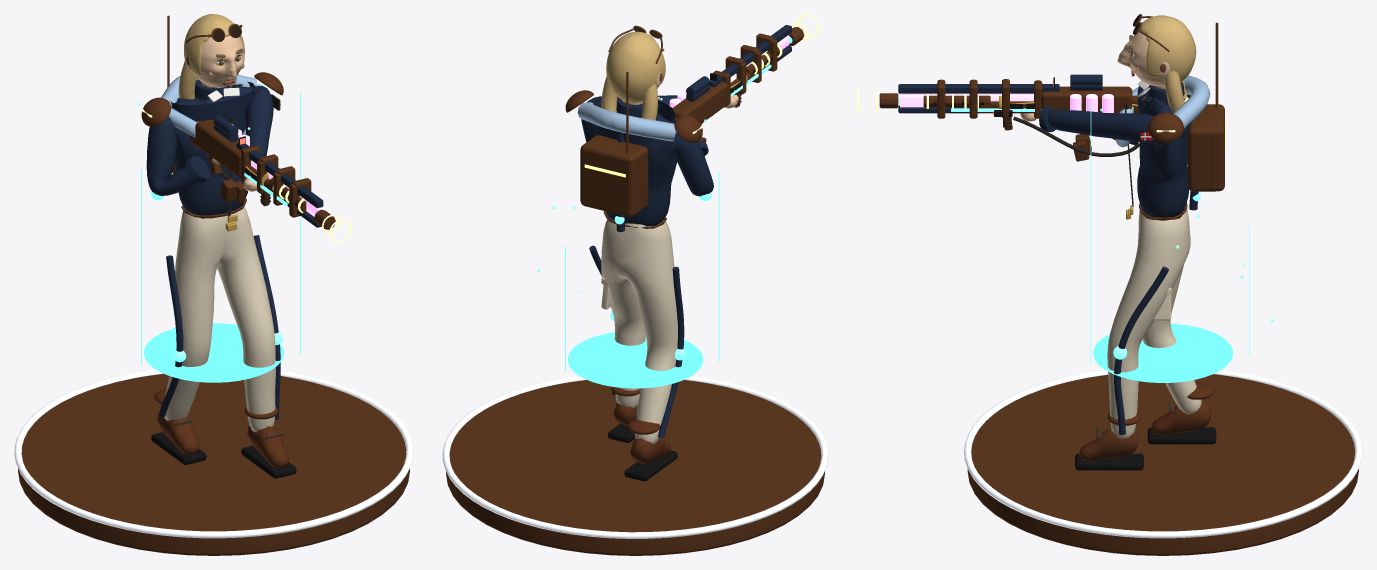
File: skinne_hellerup.glb
The picture shows the model from 3 angles, left to right: view 1: azimuth 30°, elevation 25°; view 2: azimuth 150°, elevation 25°; view 3: azimuth 270°, elevation 25°; orthographic projection. The views are drawn at different scales.
Visible parts, largest first — view 1: fod_net, menneske_net, op4.001_net, hoved_net, vaaben_net, op4_net, op1_net, ned1_net, op3.001_net, op4.002_net, op3_net; view 2: fod_net, menneske_net, op4_net, op4.001_net, hoved_net, vaaben_net, op1_net, op3.001_net, ned1_net, op4.002_net; view 3: fod_net, menneske_net, op4.001_net, hoved_net, vaaben_net, op4_net, ned1_net, op1_net, ned4.001_net, op3.001_net, op3_net.
Part boxes in pixels (x1,y1,x2,y2): fod_net: (14, 369, 413, 555); menneske_net: (146, 74, 296, 478); op4.001_net: (137, 92, 300, 382); hoved_net: (178, 14, 244, 99); vaaben_net: (190, 119, 320, 227); op4_net: (151, 84, 282, 419); op1_net: (213, 116, 323, 217); ned1_net: (213, 124, 323, 209); op3.001_net: (141, 15, 283, 126); op4.002_net: (220, 173, 351, 243); op3_net: (268, 177, 335, 229); fod_net: (442, 375, 828, 555); menneske_net: (577, 94, 738, 481); op4_net: (580, 131, 711, 438); op4.001_net: (537, 98, 719, 388); hoved_net: (601, 25, 665, 120); vaaben_net: (669, 46, 791, 123); op1_net: (686, 30, 791, 124); op3.001_net: (565, 71, 702, 153); ned1_net: (686, 25, 791, 101); op4.002_net: (699, 14, 819, 142); fod_net: (964, 369, 1362, 555); menneske_net: (1020, 75, 1216, 470); op4.001_net: (1090, 103, 1274, 382); hoved_net: (1117, 14, 1196, 112); vaaben_net: (898, 80, 1168, 118); op4_net: (1113, 104, 1225, 434); ned1_net: (898, 79, 1102, 117); op1_net: (898, 74, 1139, 156); ned4.001_net: (1188, 117, 1216, 191); op3.001_net: (1148, 22, 1218, 142); op3_net: (879, 93, 990, 108).
Size of the model in its own units: 1.94 by 2.45 by 2.45.
